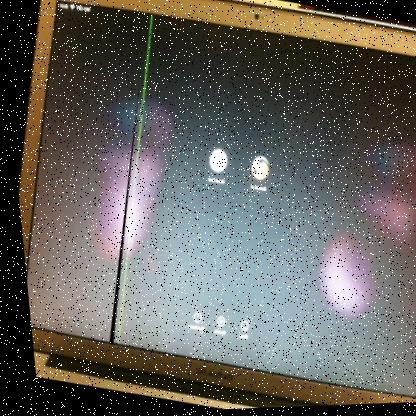lines: (75, 12, 184, 348)
